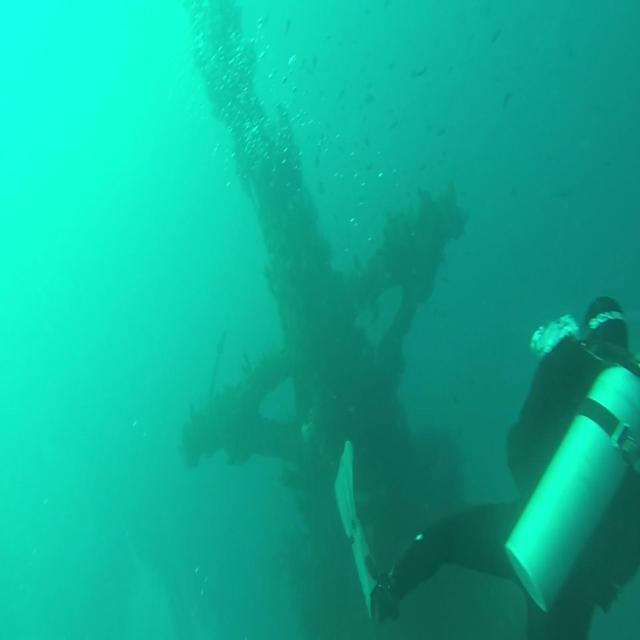human: (344, 293, 639, 636)
